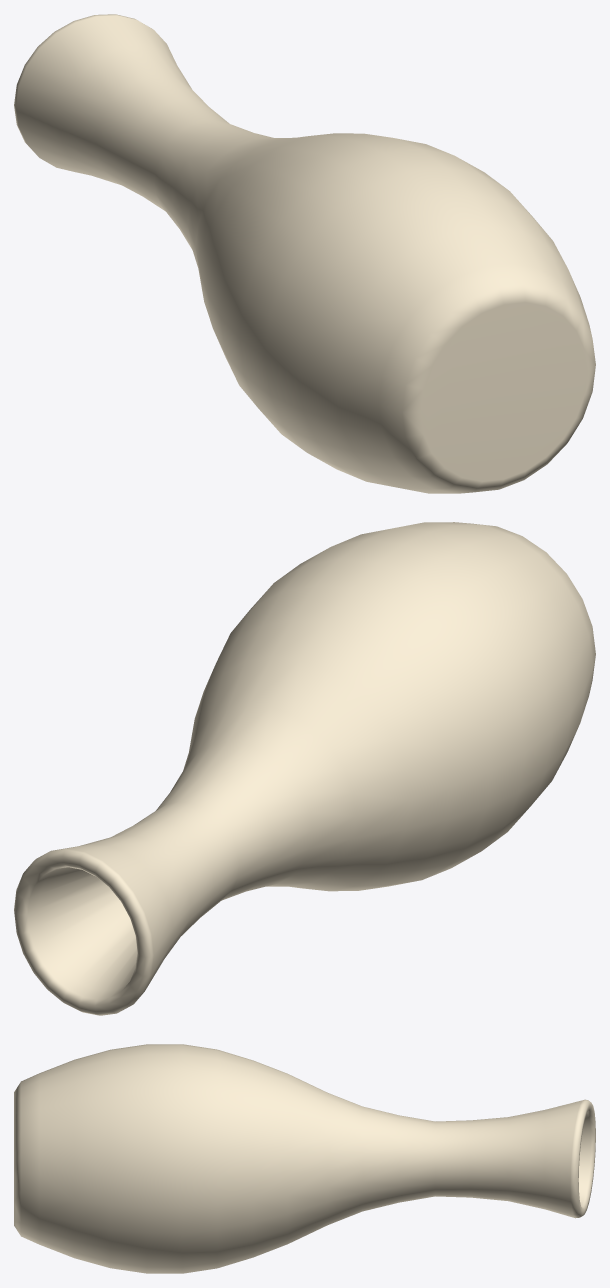
File: SM_Vase_1.FBX
The picture shows the model from 3 angles, top to bottom: view 1: azimuth 30°, elevation 25°; view 2: azimuth 150°, elevation 25°; view 3: azimuth 270°, elevation 25°; orthographic projection. The views are drawn at different scales.
Parts seen in each view (by area): view 1: SM_Vase_1; view 2: SM_Vase_1; view 3: SM_Vase_1.
Boxes of the visible parts, box(x1,y1,x2,y2) form: SM_Vase_1: box(14, 14, 595, 493); SM_Vase_1: box(14, 522, 595, 1015); SM_Vase_1: box(14, 1044, 595, 1273).
Size of the model in its own units: 16.77 by 16.77 by 42.35.
